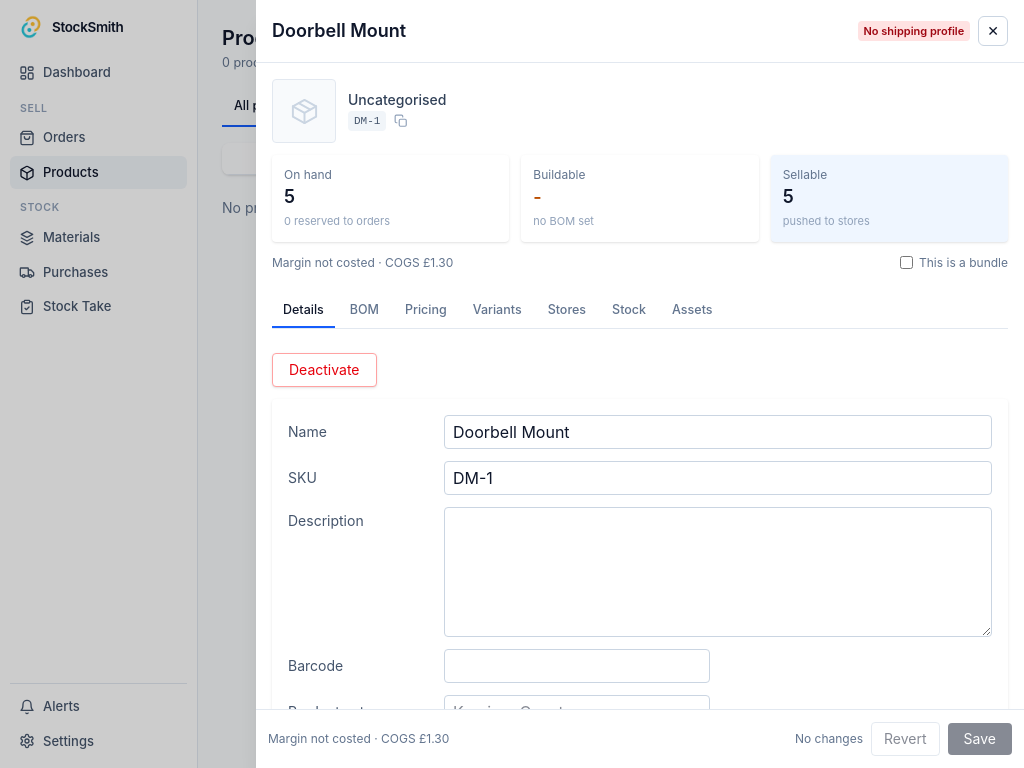
it: product detail page › puts both BOM tables under one BOM tab
Expected: the button "Kitting BOM" is not shown
Click the button "BOM": click(364, 312) [339, 296, 390, 328]
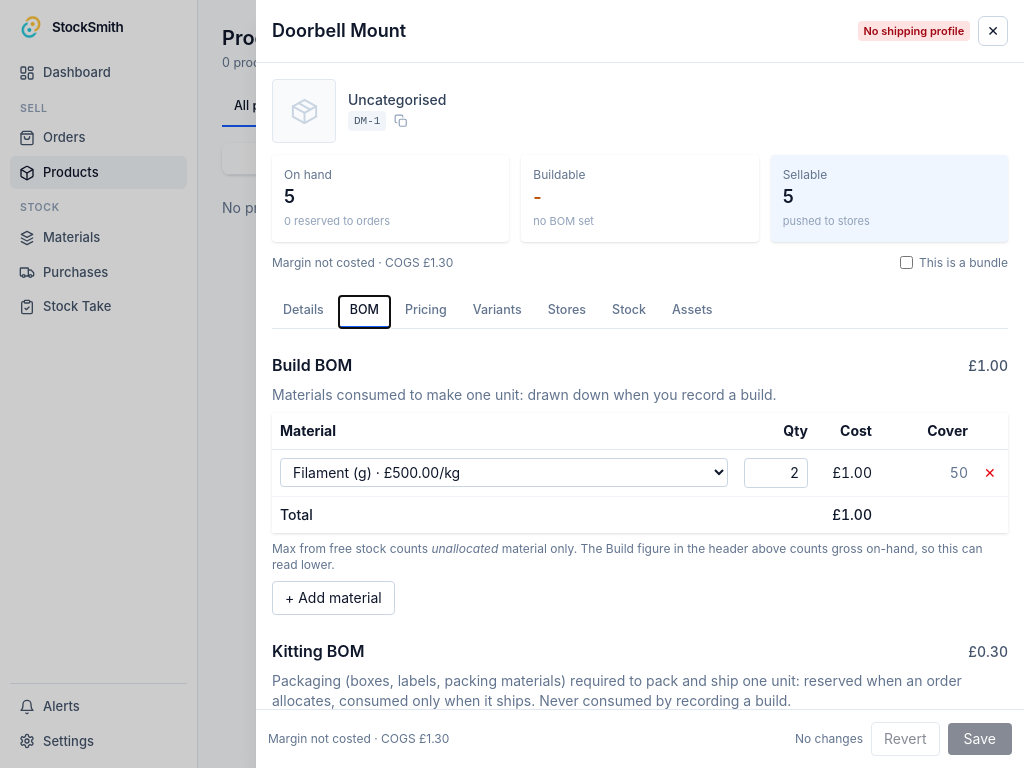
Expected: the heading "Build BOM" is shown, [272, 352, 352, 376]
Expected: the heading "Kitting BOM" is shown, [272, 638, 364, 662]
